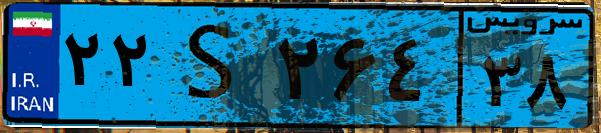2: (270, 28, 330, 110), (57, 26, 110, 100), (110, 28, 158, 98)
3: (475, 38, 525, 113)
4: (385, 28, 445, 110)
6: (330, 28, 385, 110)
8: (525, 38, 570, 115)
S: (158, 12, 270, 120)
